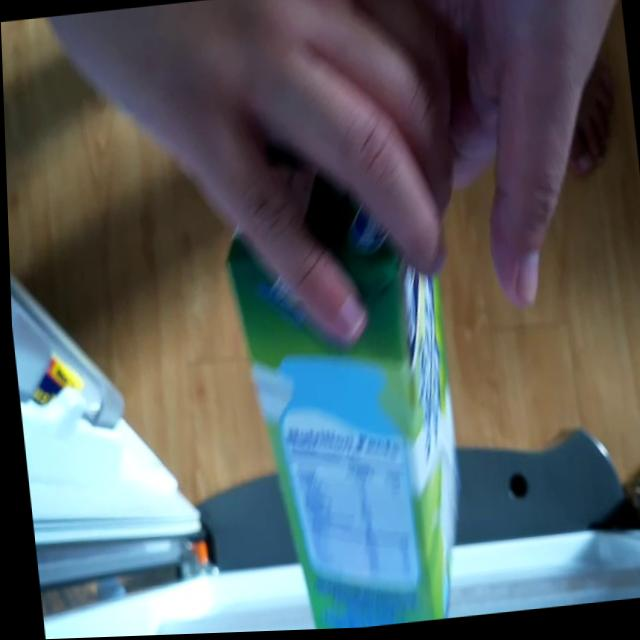milk: (219, 192, 472, 634)
